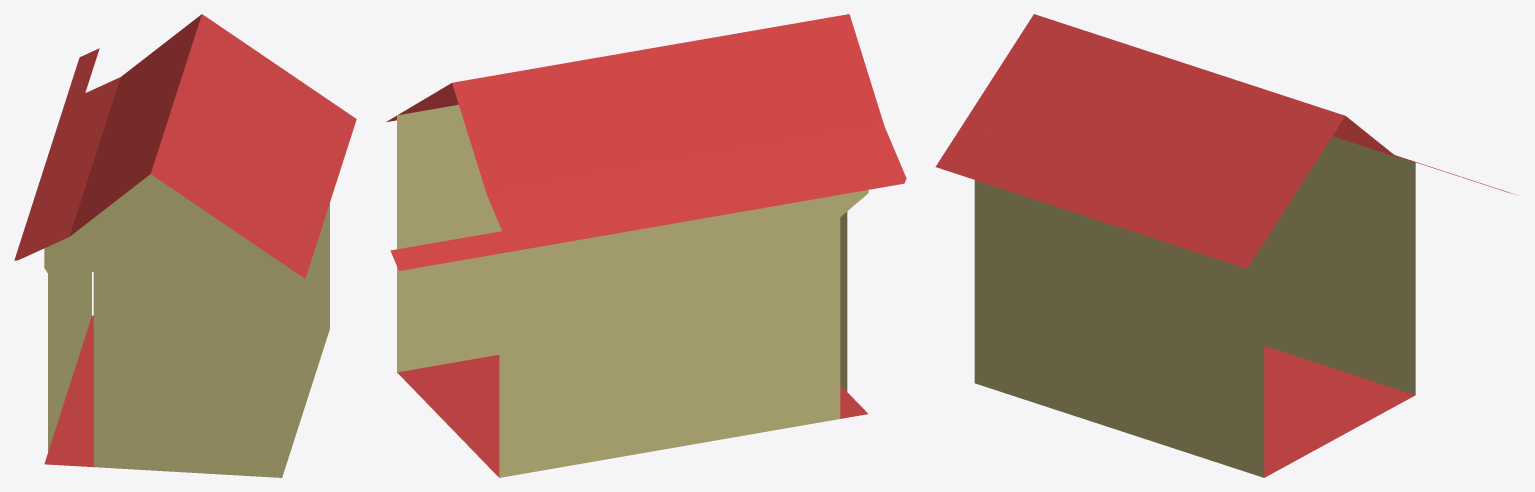
3 renders of one model, left to right at view 1: azimuth 30°, elevation 25°; view 2: azimuth 150°, elevation 25°; view 3: azimuth 270°, elevation 25°, orthographic. The views are drawn at different scales.
Size of the model in its own units: 17.09 by 20.88 by 12.51.
